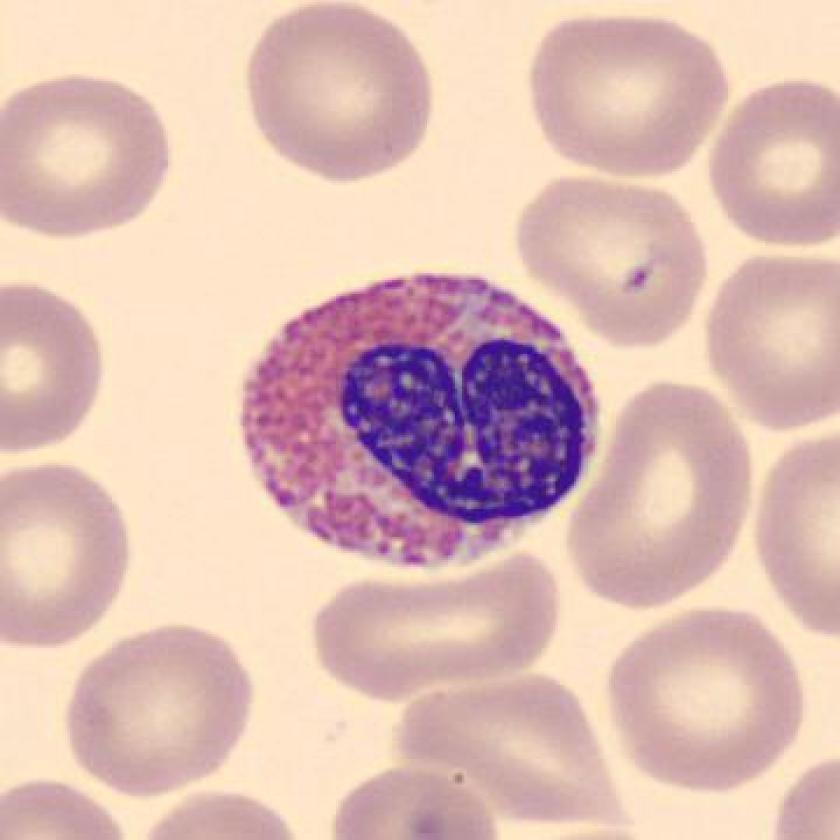eosinophil: (218, 258, 617, 591)
